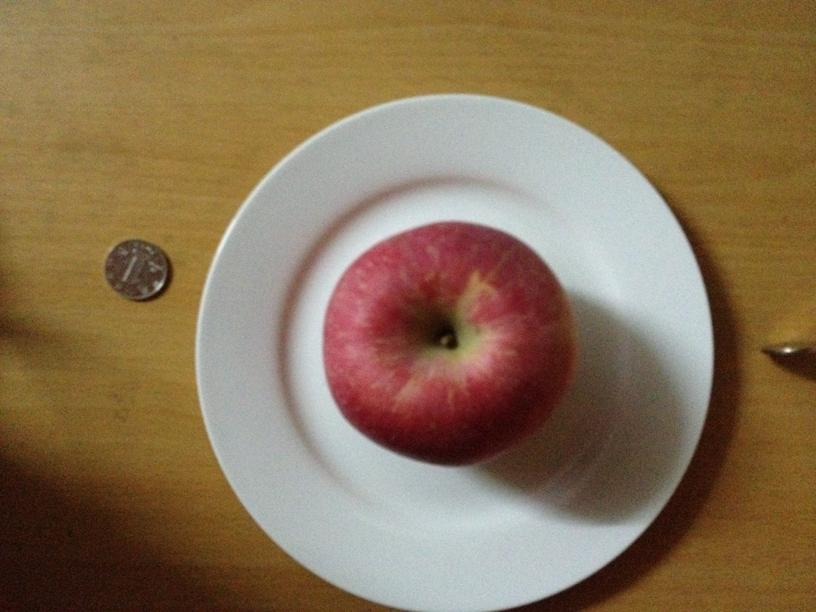apple: (324, 219, 575, 466)
coin: (103, 237, 169, 301)
